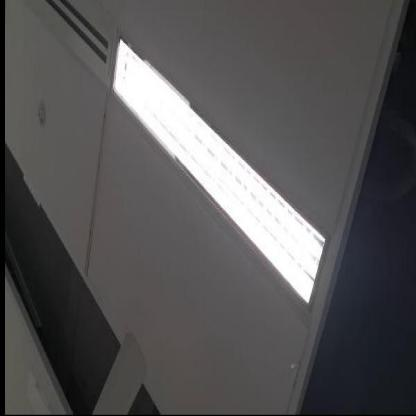light_on: (92, 21, 338, 342)
